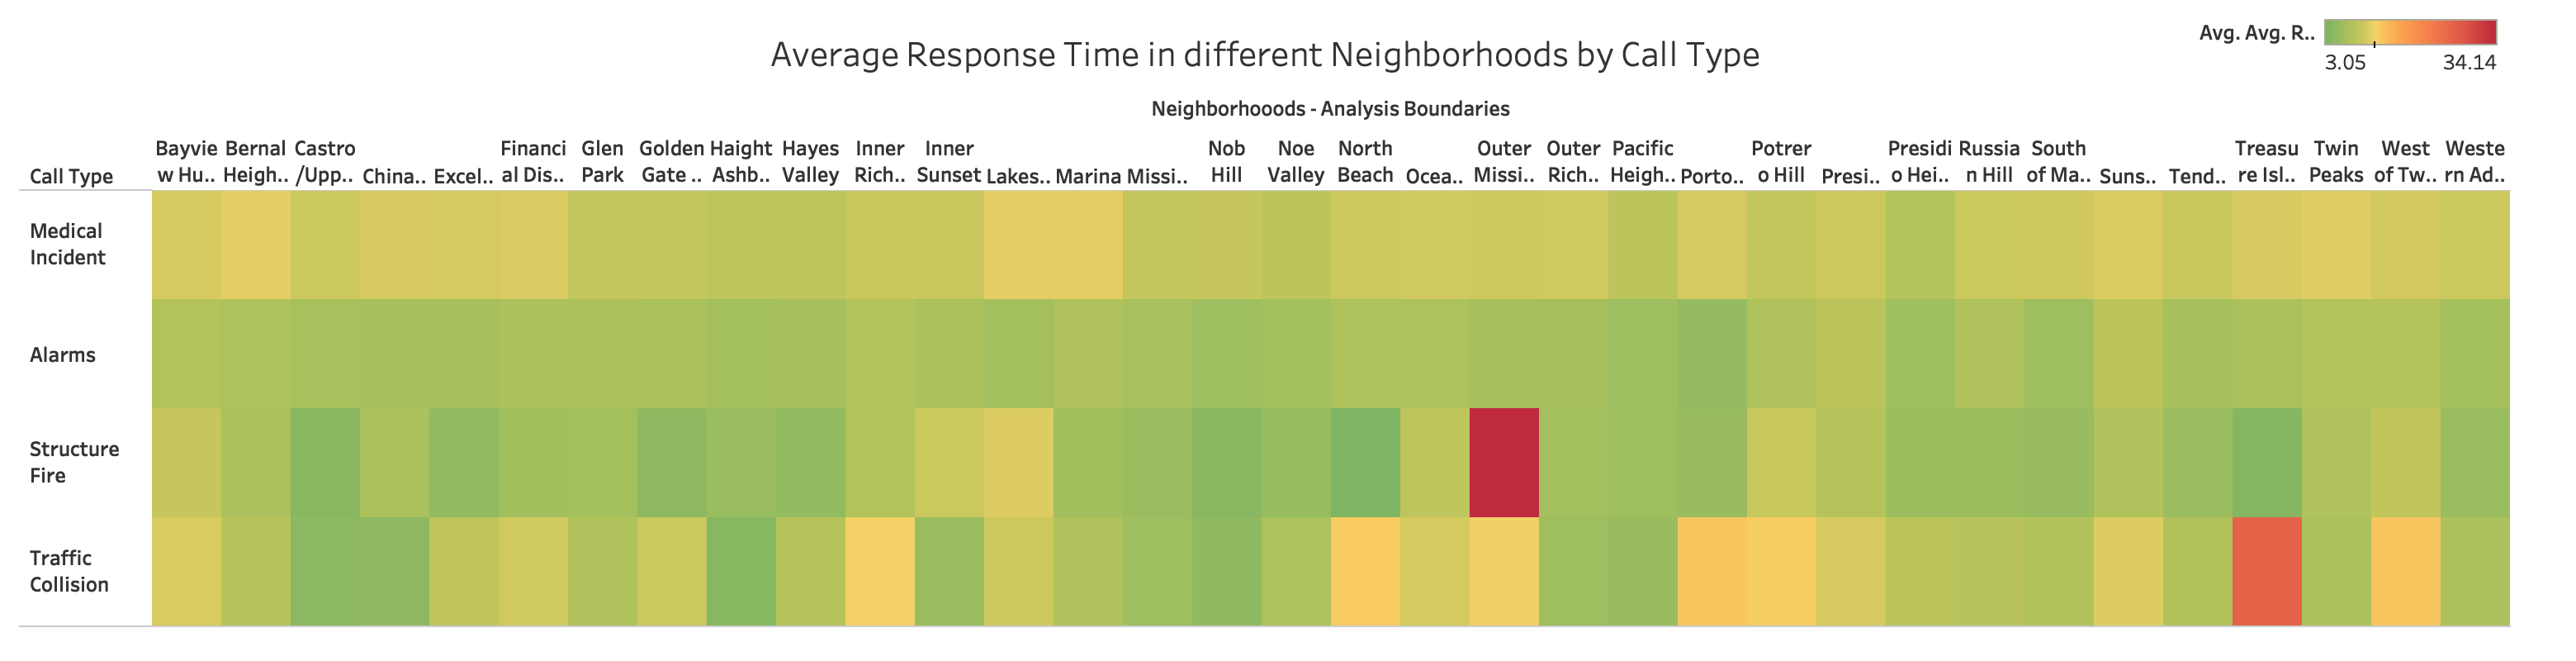

The page's visual inventory and layout, read from the dashboard file:
{"tool":"tableau","page":{"name":"Dashboard 1","canvas":[1560,800],"ordinal":0},"visuals":[{"type":"worksheet","title":"Sheet 1","mark":"Automatic","rows":["Call Type"],"cols":["Neighborhooods - Analysis Boundaries"],"box":[8,8,1544,784]},{"type":"legend","title":"Sheet 1","param":"[federated.0zl60b91ssrl7314vuj1e0ls7oev].[avg:Calculation_735845996843577344:qk]","box":[1387,16,130,76]}]}

Visuals, with their boxes on the page's 1560x800 design canvas (x1, y1, x2, y2). These are canvas units, not pixel positions in the 2576x661 screenshot, which may show the page scaled, cropped or inside an application window:
"Sheet 1" worksheet: rect(8, 8, 1552, 792)
"Sheet 1" legend: rect(1387, 16, 1517, 92)
